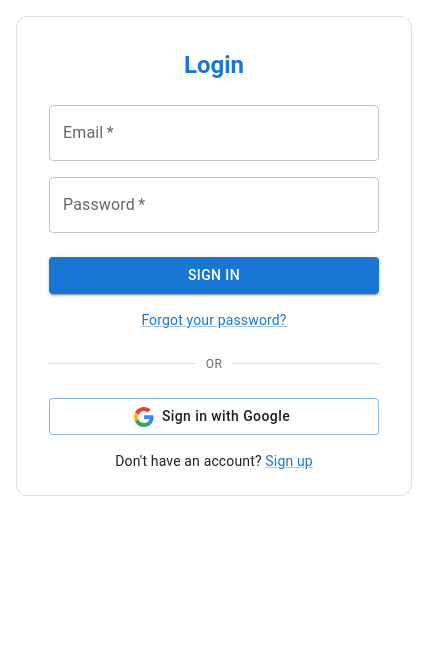
Login — unconfirmed-account branch (SMA-320) › shows the SAME neutral notice when the resend fails
Step 1. Type "alex@example.com" into the field labelled "Email *" → (214, 133), box top-left (49, 105), bottom-right (379, 161)
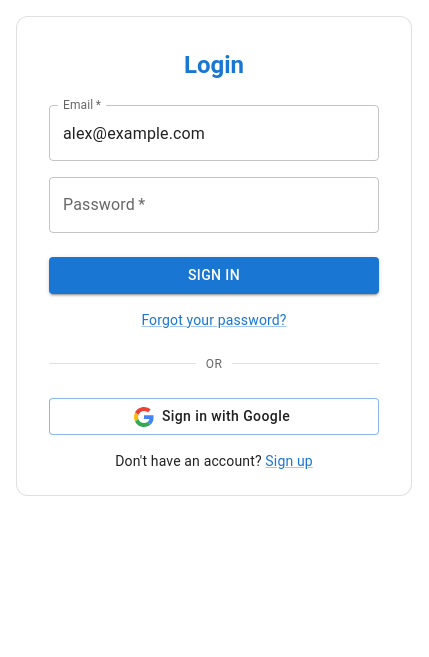
Step 2. Type "Str0ng!Pass" into the password field labelled "Password *" → (214, 205), box top-left (49, 177), bottom-right (379, 233)
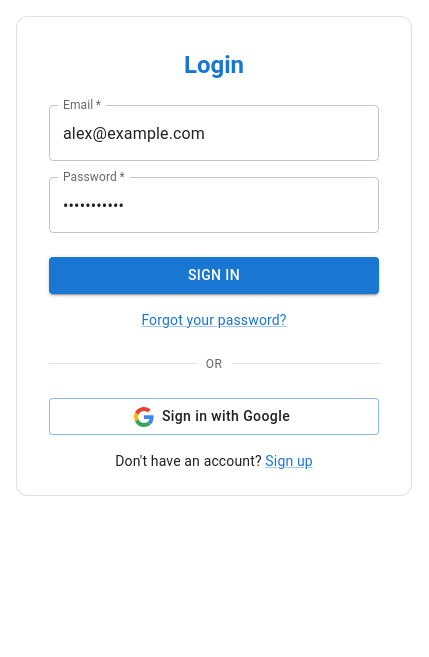
Step 3. Click the button "Sign In" → click(214, 275), box top-left (49, 257), bottom-right (379, 294)
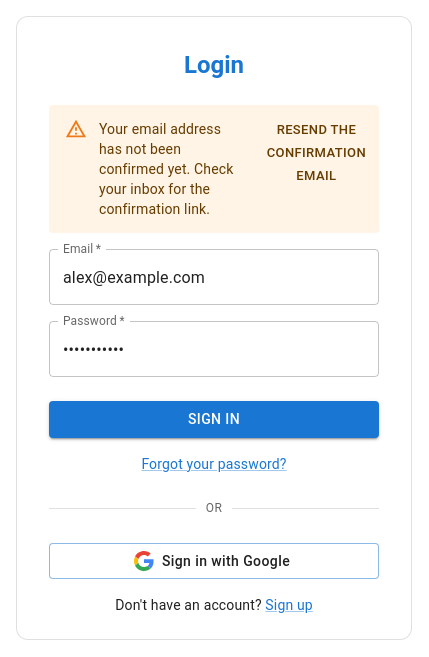
Step 4. Click the button "Resend the confirmation email" → click(316, 153), box top-left (262, 115), bottom-right (371, 191)
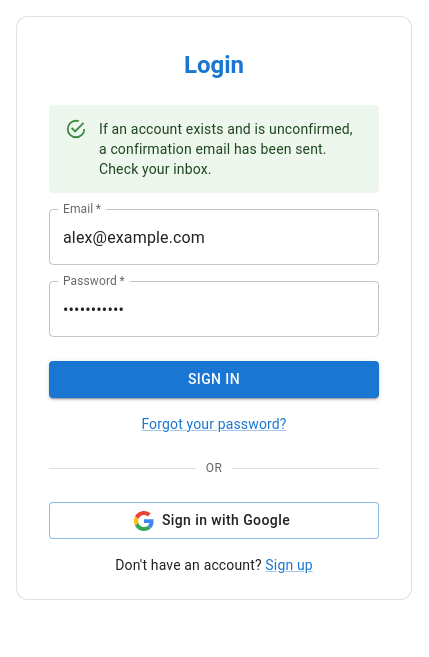
Now the text "If an account exists and is unconfirmed, a confirmation email has been sent. Check your inbox." is shown, box top-left (99, 121), bottom-right (353, 177)
